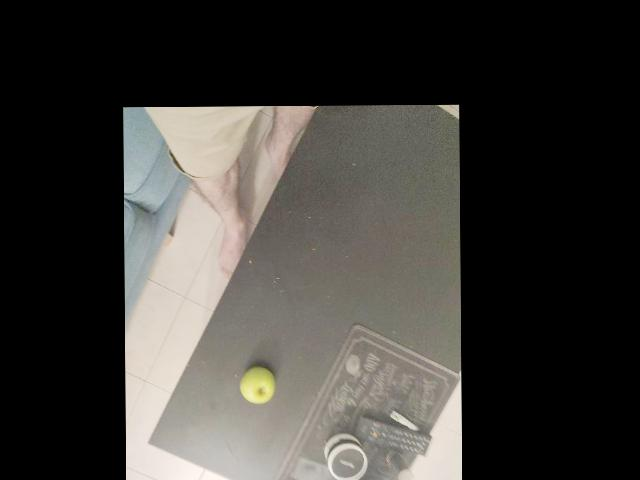apple: (244, 385, 315, 441)
